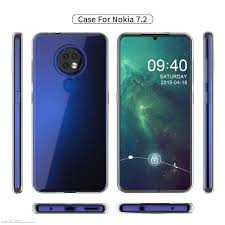nokia: (30, 29, 110, 196), (115, 30, 195, 197)
